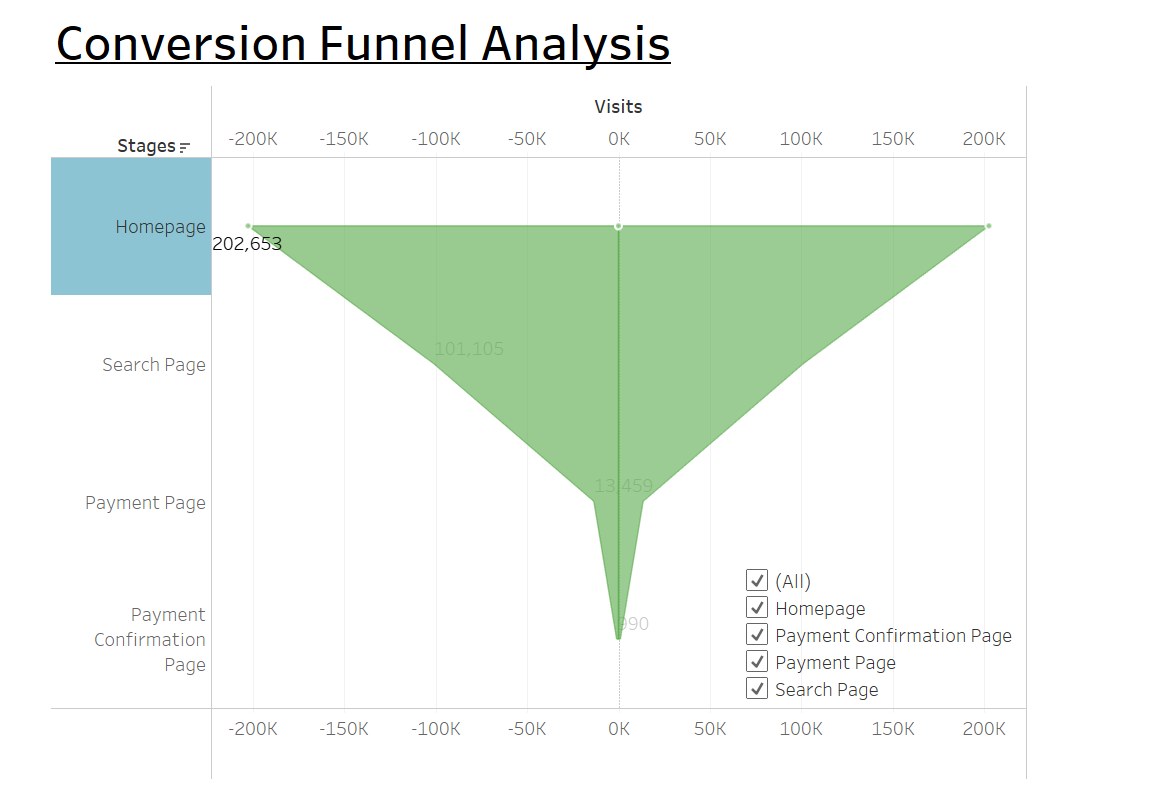

This screenshot's page, from the dashboard's own definition file:
{"tool":"tableau","page":{"name":"Conversion Funnel","canvas":[1000,800],"ordinal":0},"visuals":[{"type":"worksheet","title":"Funnel","mark":"Area","rows":["Stages"],"cols":["Calculation_1650287855429476352","Visits"],"box":[8,8,984,784]},{"type":"filter","title":"Funnel","param":"[federated.16anq4t1kzr7p90zwg02w0iefe22].[none:Stages:nk]","box":[698,572,286,141]}]}

Visuals, with their boxes on the page's 1000x800 design canvas (x1, y1, x2, y2). These are canvas units, not pixel positions in the 1160x792 screenshot, which may show the page scaled, cropped or inside an application window:
"Funnel" worksheet (Area marks): crop(8, 8, 992, 792)
"Funnel" filter: crop(698, 572, 984, 713)
